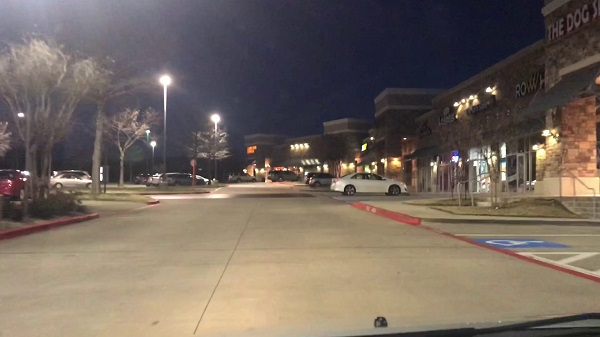car: (330, 172, 410, 199), (1, 168, 31, 200), (54, 172, 93, 188), (150, 173, 196, 185), (308, 174, 333, 190)
